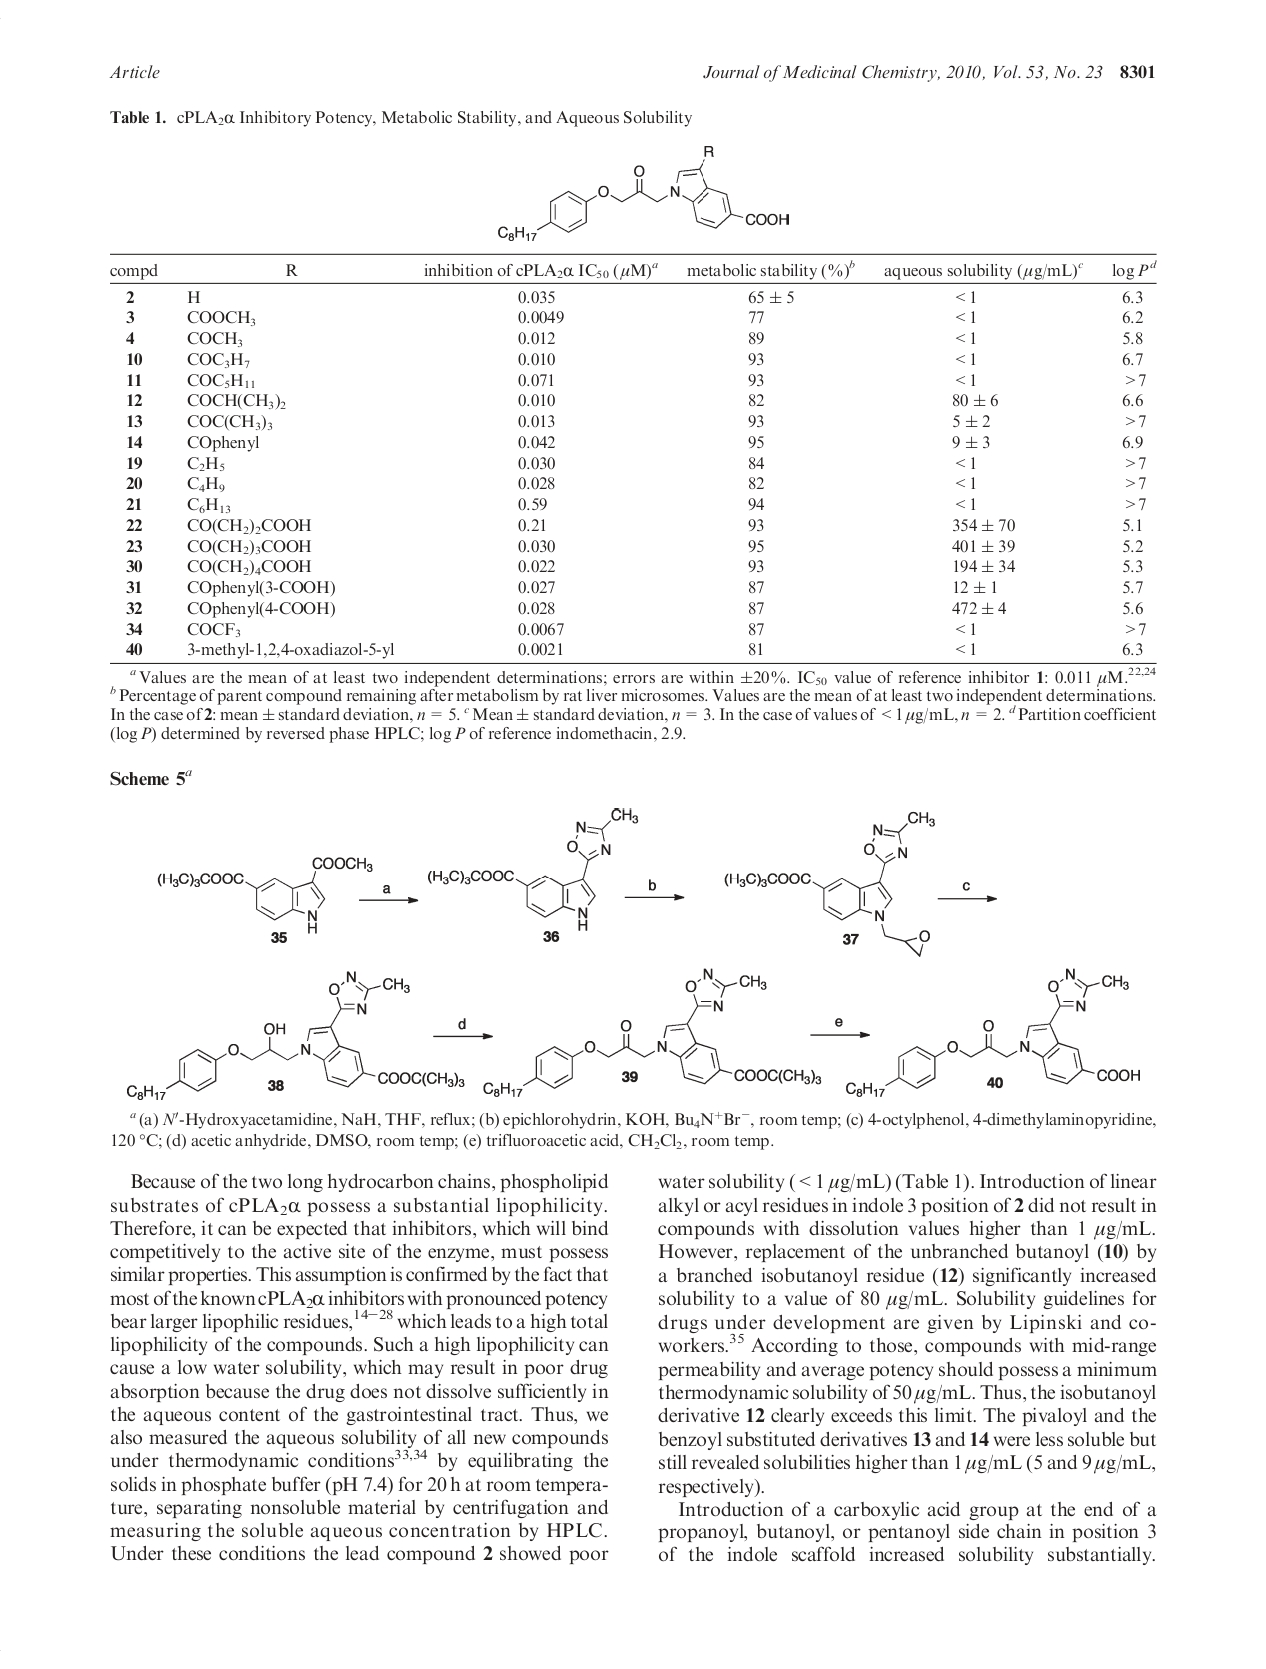exist_molecular: (122, 968, 465, 1100), (480, 967, 823, 1096), (842, 967, 1144, 1098), (723, 809, 938, 959), (492, 141, 793, 246), (426, 805, 640, 934), (156, 855, 374, 936)
